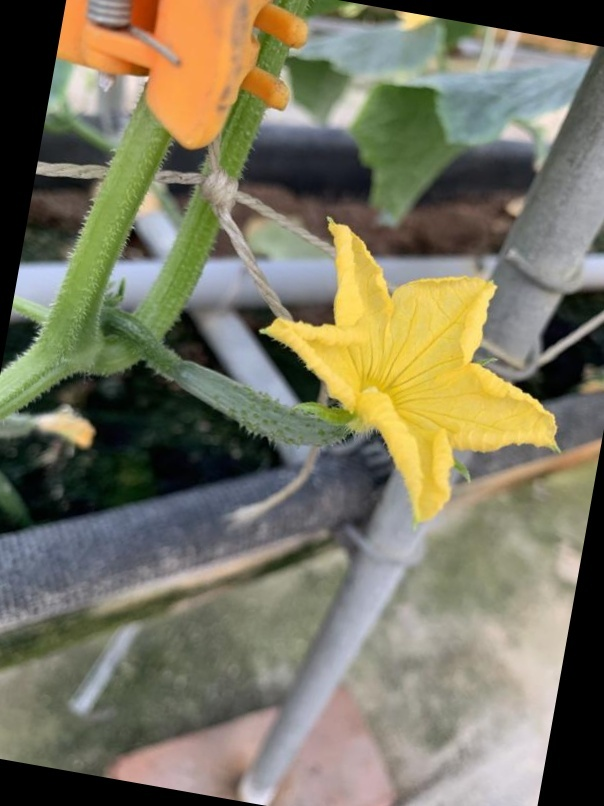flowering: (131, 217, 541, 482)
